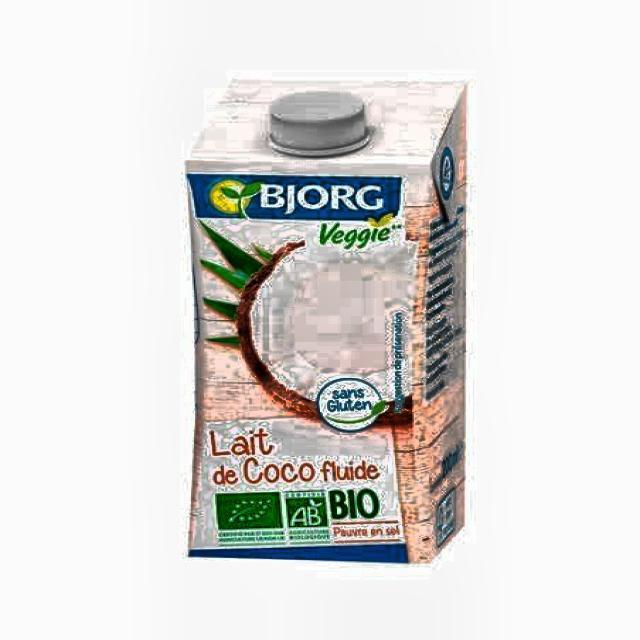cardboard: (182, 76, 468, 564)
